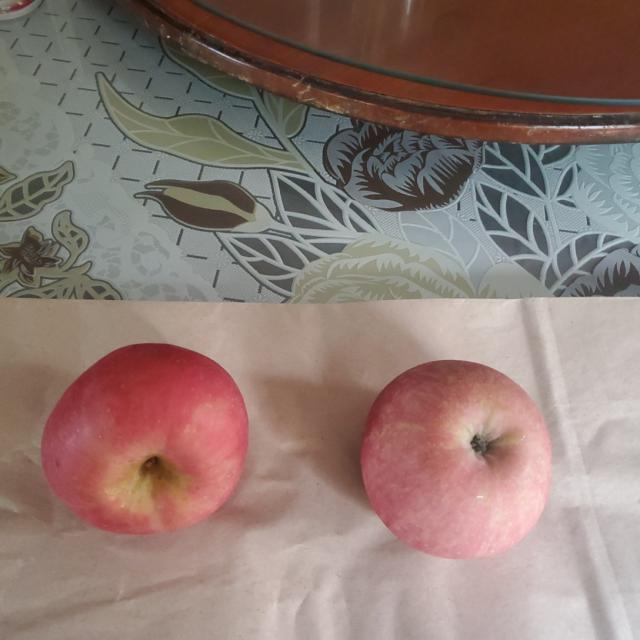apple: (40, 342, 250, 535), (360, 357, 551, 556)
